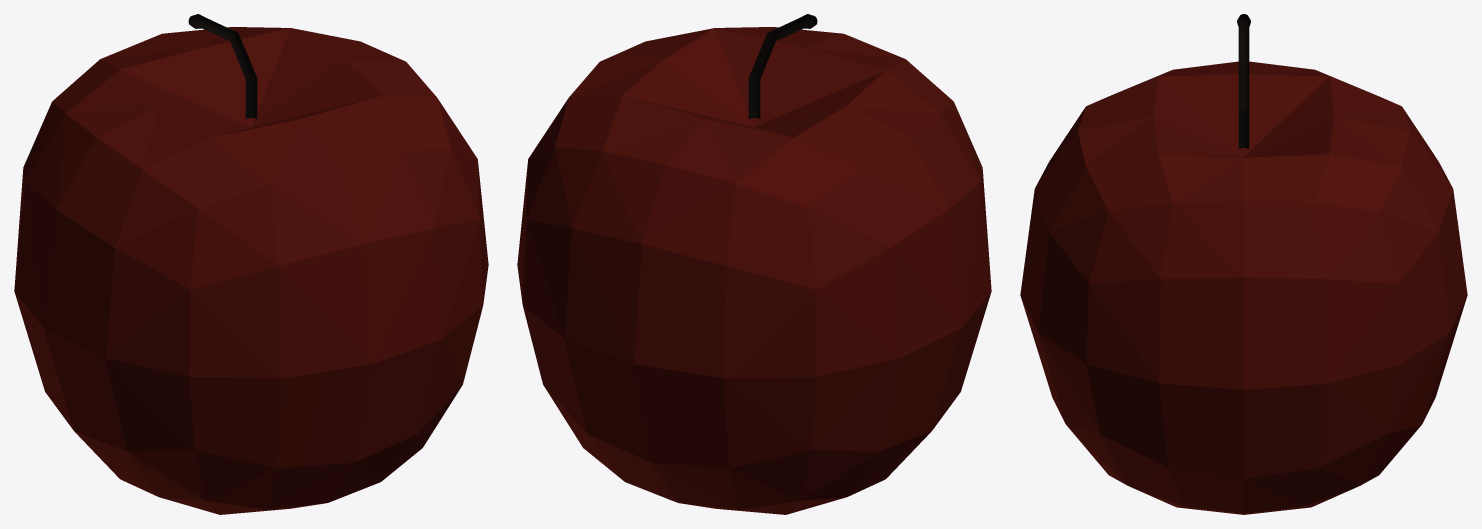
Rendered from apple.obj.
The picture shows the model from 3 angles, left to right: view 1: azimuth 30°, elevation 25°; view 2: azimuth 150°, elevation 25°; view 3: azimuth 270°, elevation 25°; orthographic projection. The views are drawn at different scales.
Parts seen in each view (by area): view 1: Cube.001; view 2: Cube.001; view 3: Cube.001.
Boxes of the visible parts, <box> form: Cube.001: <box>14,14,488,514</box>; Cube.001: <box>517,14,991,514</box>; Cube.001: <box>1020,14,1467,514</box>.
Bounding box in the file's own units: 1.59 × 1.75 × 1.6.
